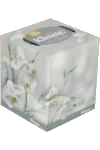grozi_32: (0, 19, 100, 131)
